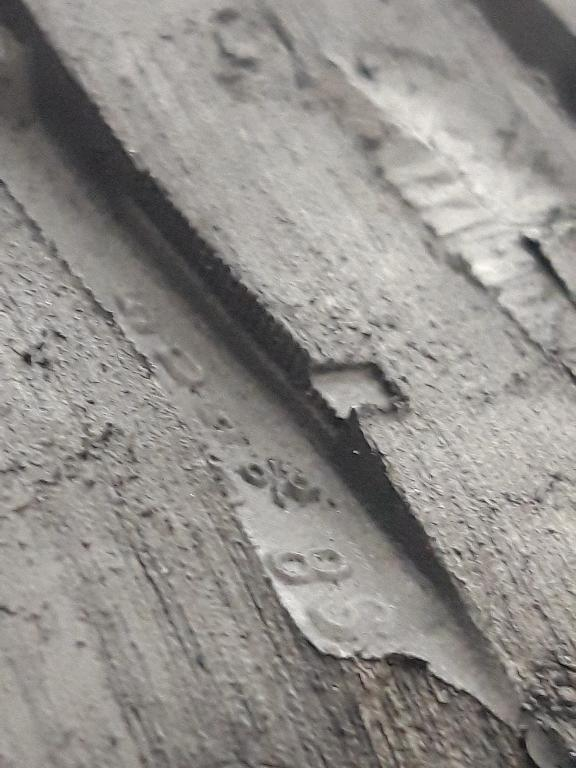temoin:25: (239, 274, 421, 456)
